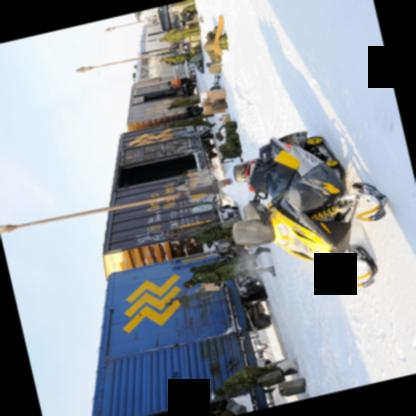backpack: (218, 132, 242, 162), (189, 259, 224, 272), (215, 120, 237, 140), (219, 33, 228, 49), (171, 97, 183, 102)
